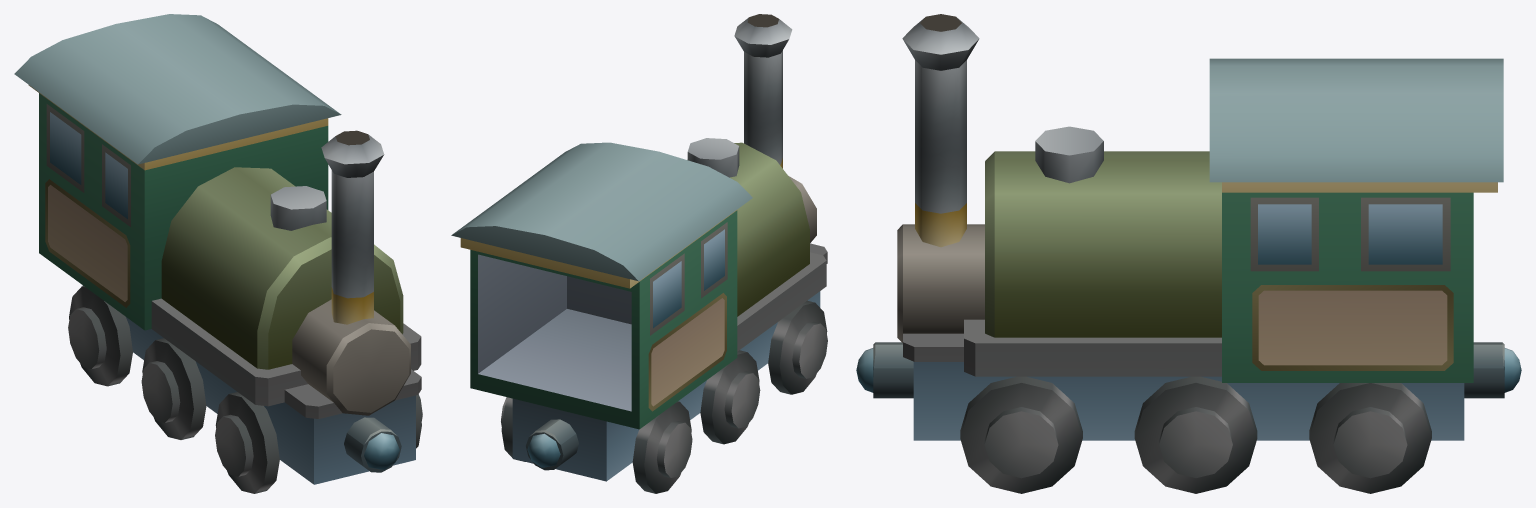
Rendered from Steam_Engine_A.fbx.
3 renders of one model, left to right at view 1: azimuth 30°, elevation 25°; view 2: azimuth 150°, elevation 25°; view 3: azimuth 270°, elevation 25°, orthographic. The views are drawn at different scales.
Visible parts, largest first — view 1: Steam_Engine_A; view 2: Steam_Engine_A; view 3: Steam_Engine_A.
Part boxes in pixels (x1,y1,x2,y2): Steam_Engine_A: (14,14,422,493); Steam_Engine_A: (451,14,827,493); Steam_Engine_A: (856,14,1521,493).
Bounding box in the file's own units: 318 × 535 × 757.
